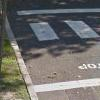Crosswalk: (20, 15, 100, 53)
